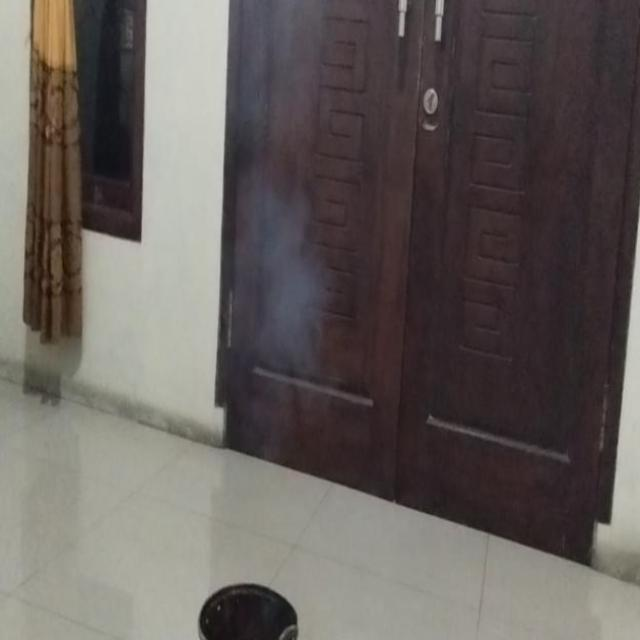fire: (238, 167, 339, 413)
